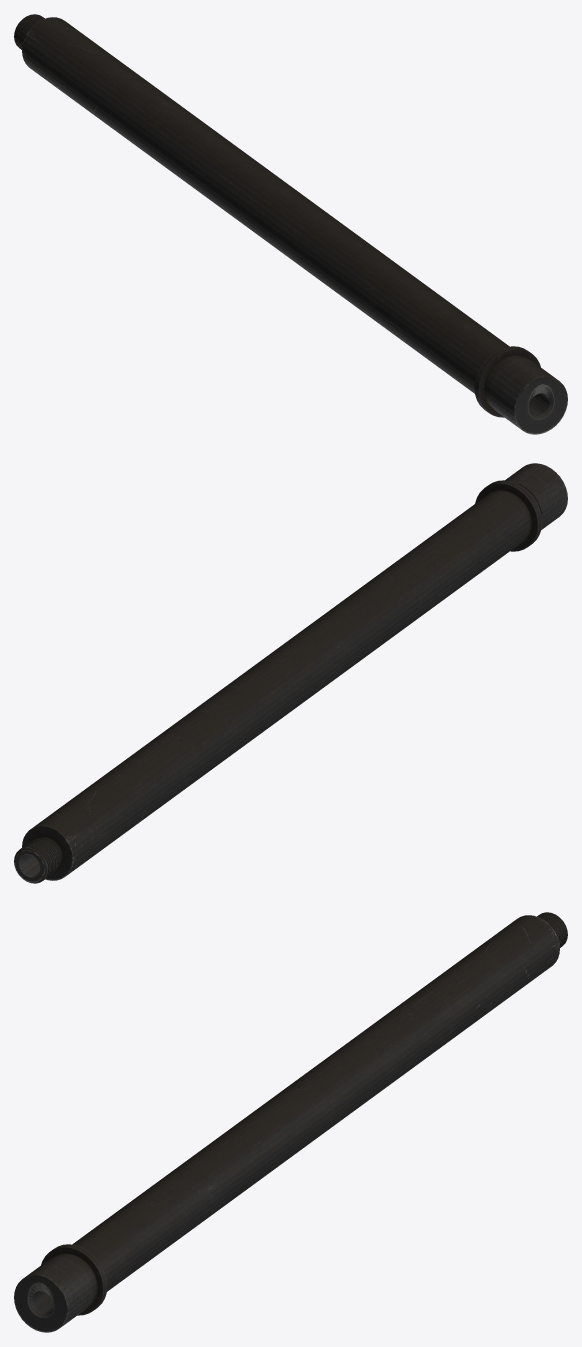
3 renders of one model, top to bottom at view 1: azimuth 30°, elevation 25°; view 2: azimuth 150°, elevation 25°; view 3: azimuth 330°, elevation 25°, orthographic.
Parts seen in each view (by area): view 1: TW_603373004e02ce1eaa358814_PZ_Import; view 2: TW_603373004e02ce1eaa358814_PZ_Import; view 3: TW_603373004e02ce1eaa358814_PZ_Import.
Part boxes in pixels (box(x1,y1,x2,y2)): TW_603373004e02ce1eaa358814_PZ_Import: box(14, 14, 567, 434); TW_603373004e02ce1eaa358814_PZ_Import: box(14, 463, 567, 883); TW_603373004e02ce1eaa358814_PZ_Import: box(14, 912, 567, 1332).
Size of the model in its own units: 0.0173 by 0.2413 by 0.0173.
Materials: 1 (1 with a texture image).
